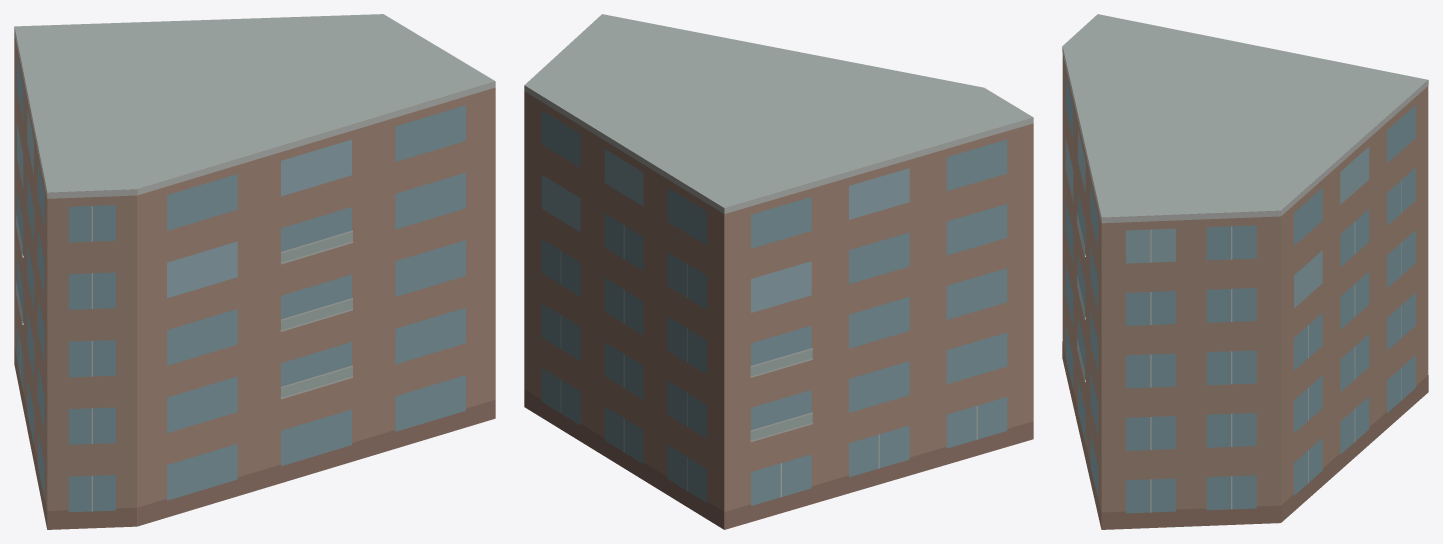
The model's file is survey-upis-32631630.glb.
3 renders of one model, left to right at view 1: azimuth 30°, elevation 25°; view 2: azimuth 150°, elevation 25°; view 3: azimuth 270°, elevation 25°, orthographic. The views are drawn at different scales.
Visible parts, largest first — view 1: survey-upis-32631630.tmp; view 2: survey-upis-32631630.tmp; view 3: survey-upis-32631630.tmp.
Boxes of the visible parts, left/top/right/bottom form: survey-upis-32631630.tmp: left=14, top=14, right=495, bottom=529; survey-upis-32631630.tmp: left=524, top=14, right=1033, bottom=529; survey-upis-32631630.tmp: left=1062, top=14, right=1428, bottom=529.
Bounding box in the file's own units: 18.31 × 13.1 × 13.92.
